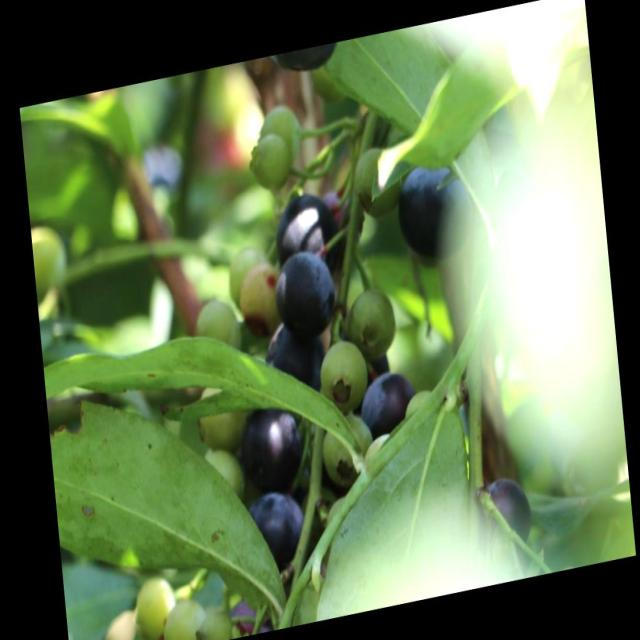blueberry: (395, 152, 473, 264), (271, 187, 342, 284), (240, 398, 303, 496), (273, 246, 338, 340), (248, 484, 306, 576), (263, 315, 324, 396), (358, 368, 418, 438), (484, 470, 532, 548)
blueberry-unripe: (318, 400, 374, 485), (317, 333, 370, 411), (346, 282, 398, 361), (351, 142, 401, 220), (239, 258, 285, 338), (130, 573, 176, 639), (192, 296, 242, 355), (255, 101, 300, 163), (249, 133, 287, 194), (160, 595, 206, 639)
